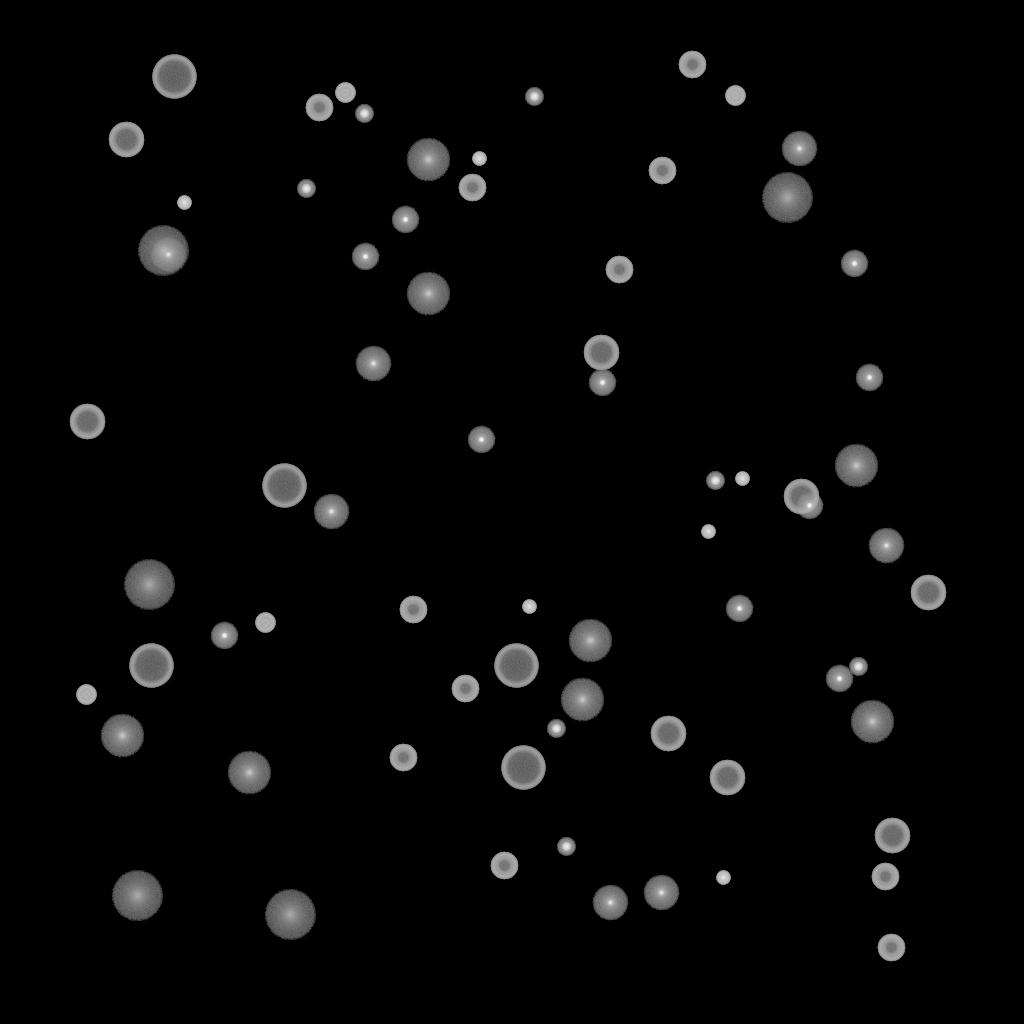depth:-10: (588, 369, 616, 397), (825, 665, 853, 693), (351, 243, 379, 271), (210, 622, 238, 650), (467, 426, 495, 454), (725, 595, 753, 623), (840, 250, 868, 278), (391, 206, 419, 234), (855, 364, 883, 392), (795, 492, 823, 520)
depth:-20: (706, 472, 724, 490), (557, 838, 575, 856), (547, 720, 565, 738), (525, 88, 543, 106), (297, 180, 315, 198), (849, 658, 867, 676), (355, 105, 373, 123)
depth:-30: (735, 472, 749, 486), (472, 152, 486, 166), (701, 525, 715, 539), (177, 196, 191, 210), (716, 871, 730, 885), (522, 600, 536, 614)
depth:-40: (255, 613, 275, 633), (335, 83, 355, 103), (76, 685, 96, 705), (725, 86, 745, 106)
depth:-50: (305, 94, 333, 122), (389, 744, 417, 772), (648, 157, 676, 185), (451, 675, 479, 703), (399, 596, 427, 624), (871, 863, 899, 891), (605, 256, 633, 284), (877, 934, 905, 962), (458, 174, 486, 202), (678, 51, 706, 79), (490, 852, 518, 880)
depth:-60: (69, 404, 105, 440), (650, 716, 686, 752), (709, 760, 745, 796), (874, 818, 910, 854), (910, 575, 946, 611), (108, 122, 144, 158), (583, 335, 619, 371), (783, 479, 819, 515)
depth:-70: (262, 464, 306, 508), (152, 55, 196, 99), (494, 644, 538, 688), (501, 746, 545, 790), (129, 644, 173, 688)
depth:0: (868, 528, 904, 564), (313, 494, 349, 530), (643, 875, 679, 911), (150, 237, 186, 273), (781, 131, 817, 167), (355, 346, 391, 382), (592, 885, 628, 921)
depth:10: (100, 714, 144, 758), (227, 751, 271, 795), (560, 678, 604, 722), (406, 138, 450, 182), (834, 444, 878, 488), (568, 619, 612, 663), (406, 272, 450, 316), (850, 700, 894, 744)
depth:20: (111, 871, 163, 921), (264, 890, 316, 940), (761, 173, 813, 223), (137, 226, 189, 276), (123, 560, 175, 610)
